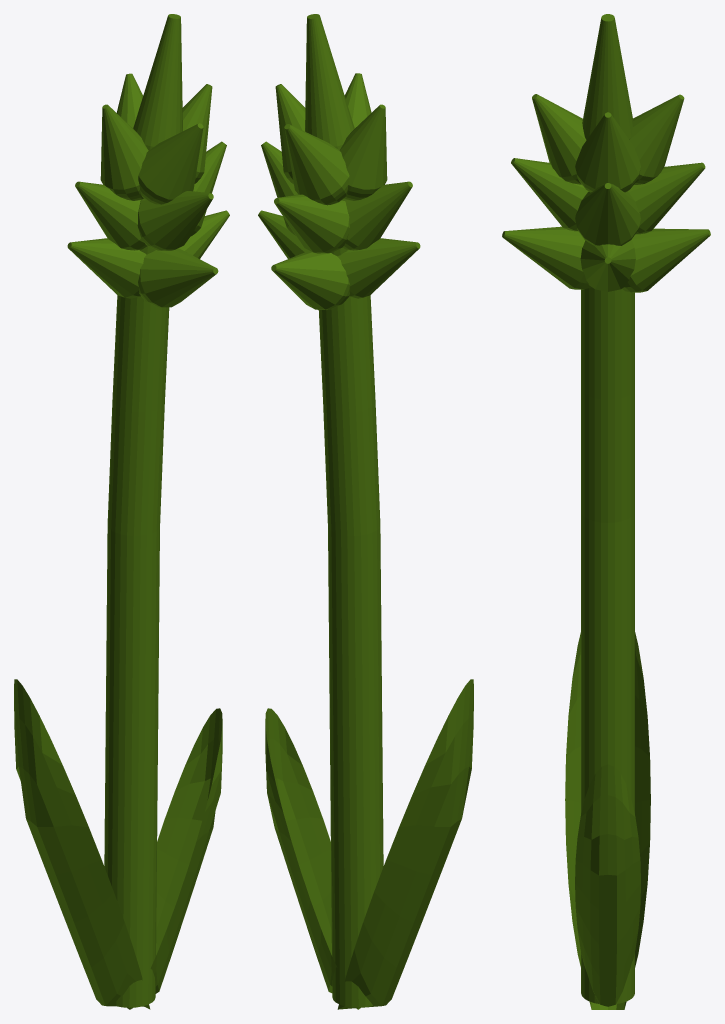
The model's file is Grass.glb.
3 renders of one model, left to right at view 1: azimuth 30°, elevation 25°; view 2: azimuth 150°, elevation 25°; view 3: azimuth 270°, elevation 25°, orthographic. The views are drawn at different scales.
Parts seen in each view (by area): view 1: Wheat; view 2: Wheat; view 3: Wheat.
Part boxes in pixels (x1,y1,x2,y2): Wheat: (14,14,229,1009); Wheat: (258,14,473,1009); Wheat: (502,14,710,1009).
Size of the model in its own units: 0.4117 by 1.82 by 0.3412.
